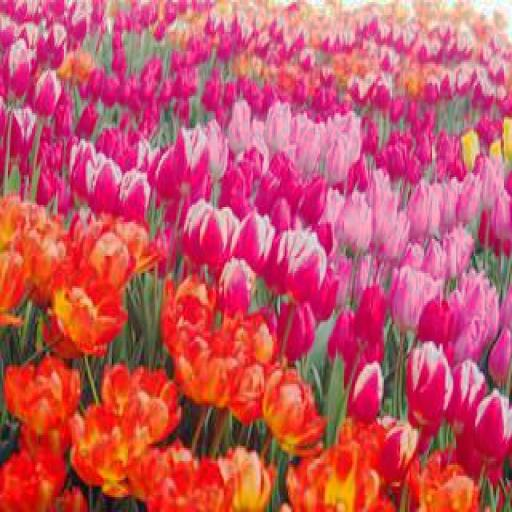tulip: (165, 290, 269, 416), (98, 354, 179, 444), (288, 437, 376, 512), (53, 262, 126, 350), (6, 356, 82, 431), (261, 363, 328, 448), (69, 410, 142, 484), (144, 446, 218, 512), (410, 448, 480, 512), (217, 443, 278, 512), (160, 271, 221, 337), (408, 348, 448, 433), (286, 232, 325, 310), (277, 290, 318, 361), (450, 352, 484, 435), (475, 390, 512, 465), (178, 200, 210, 280), (27, 222, 61, 296), (422, 292, 460, 354), (234, 207, 268, 275), (350, 360, 382, 431), (220, 258, 254, 324), (340, 186, 374, 250), (394, 264, 426, 330), (66, 138, 99, 200), (330, 305, 358, 376), (458, 262, 483, 340), (91, 156, 125, 213), (30, 166, 64, 222), (197, 205, 229, 264), (358, 282, 388, 344), (149, 145, 182, 201), (3, 39, 34, 98), (118, 166, 149, 224), (6, 107, 36, 164), (34, 62, 60, 126), (301, 168, 326, 230), (226, 98, 250, 147)
